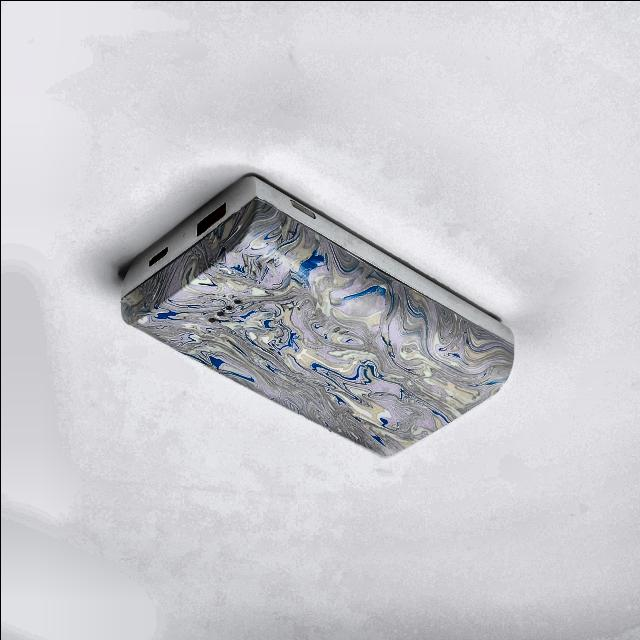Power bank: (120, 175, 513, 456)
